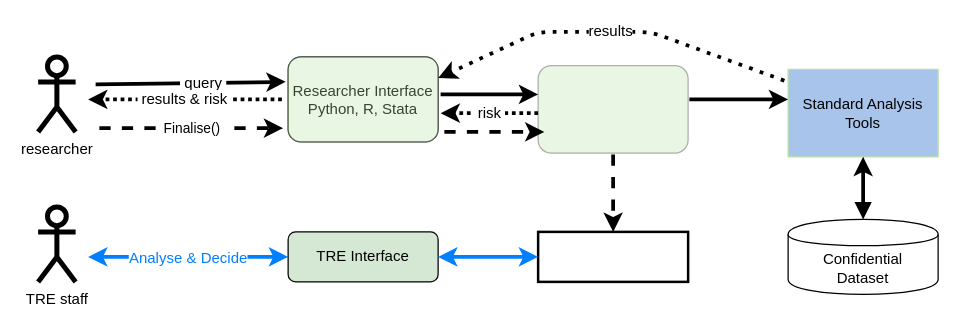
The diagram is 960 pixels wide and 330 high, and some of its shapes have lost their labels. The box of each missing label's shape, as (x1, y1, x2, y2) in pixels:
Assessment of Disclosure Risk: (537, 64, 688, 153)
Audit Records: (536, 230, 689, 282)
